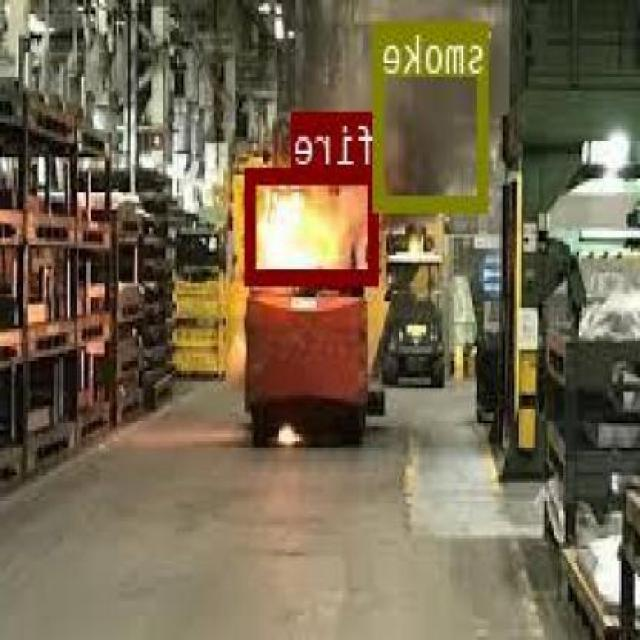Fire: (222, 160, 362, 312)
Smoke: (356, 0, 524, 180)
